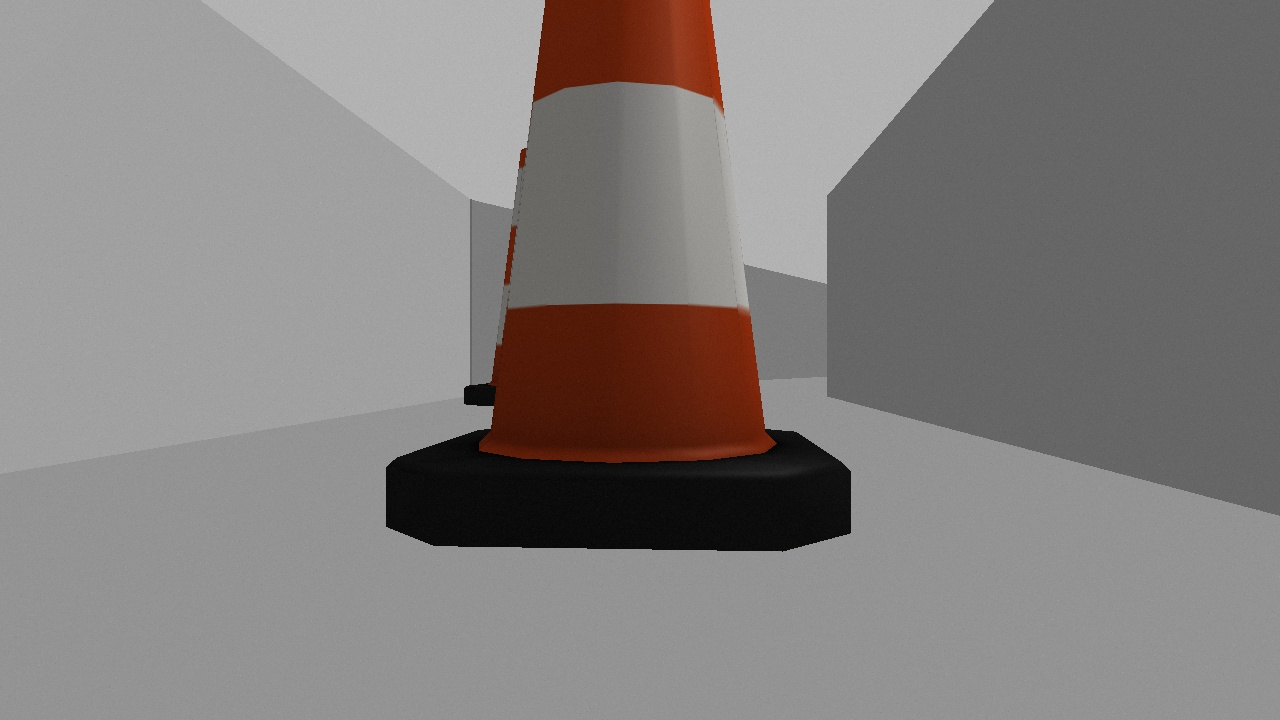barricade: (362, 1, 893, 580)
